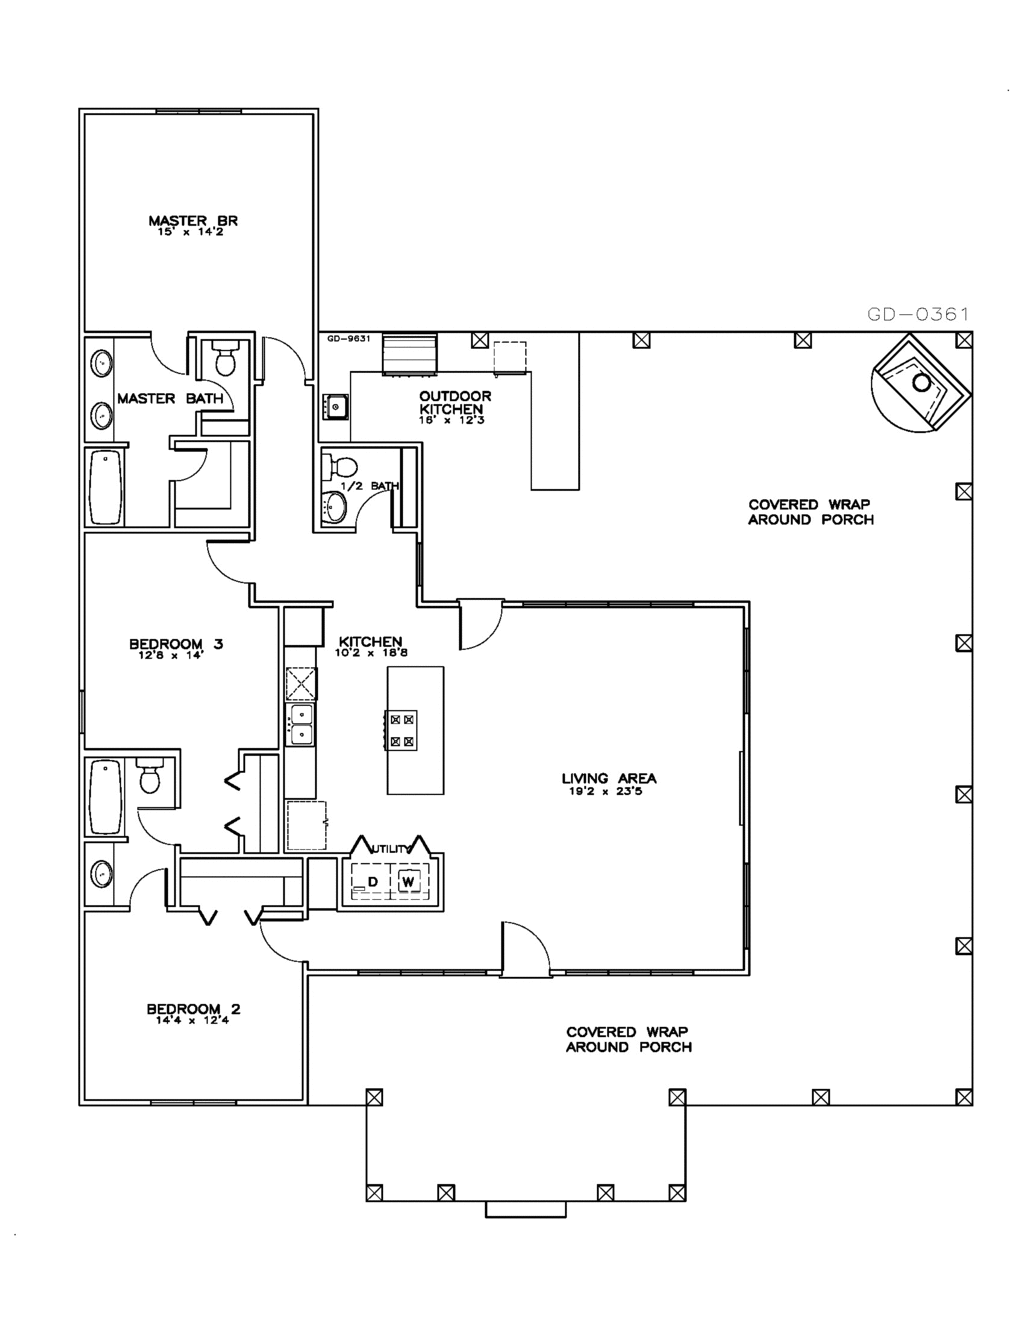door: (490, 915, 553, 986), (449, 594, 510, 653), (252, 333, 315, 387), (352, 487, 407, 542), (203, 533, 253, 592), (255, 912, 304, 967), (130, 802, 184, 852), (168, 438, 215, 494), (127, 866, 179, 915), (145, 326, 194, 379)
kitchen_bar: (382, 660, 447, 804)
large_sink: (318, 445, 365, 490), (130, 756, 172, 798), (204, 334, 242, 379)
small_sink: (83, 334, 120, 442), (77, 840, 120, 915)
tub: (80, 750, 125, 840), (87, 448, 132, 526)
twin_sink: (283, 702, 318, 755)
